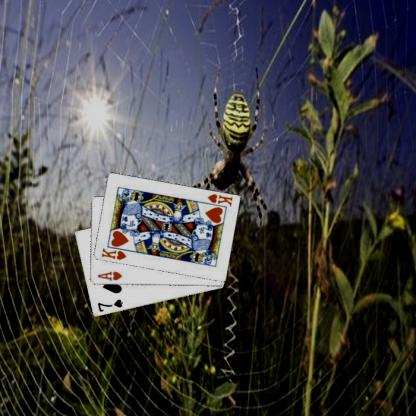7S: (95, 297, 124, 313)
AH: (95, 269, 123, 282)
KH: (204, 192, 234, 208), (99, 245, 127, 262)
